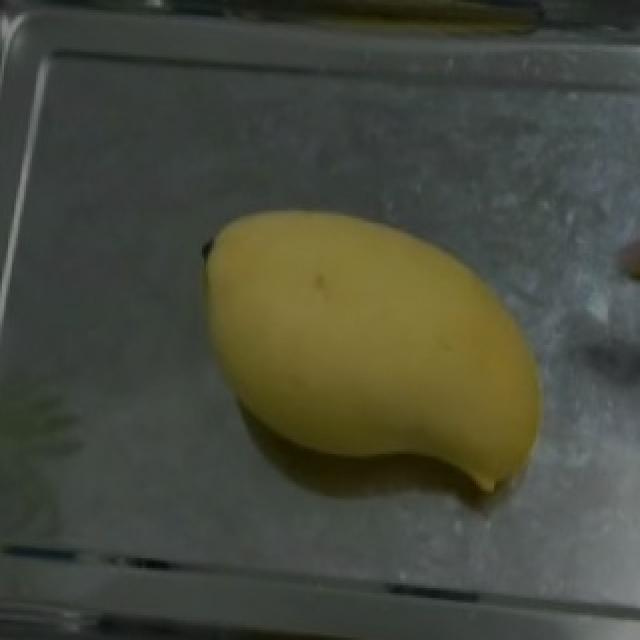fruit: (178, 174, 574, 498)
